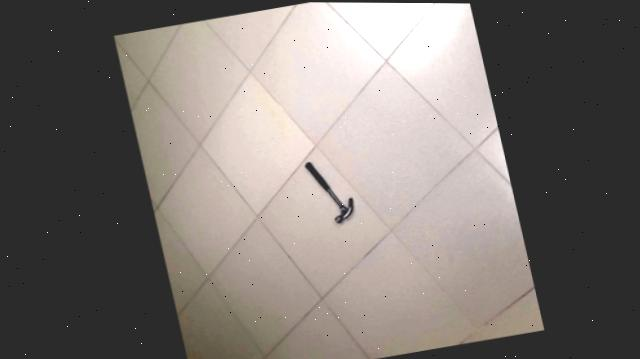hammer: (296, 144, 362, 233)
